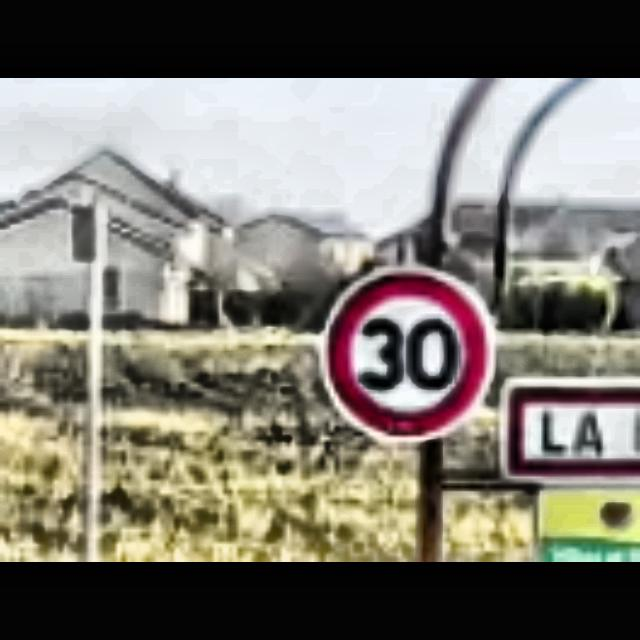speed_30: (319, 266, 497, 448)
